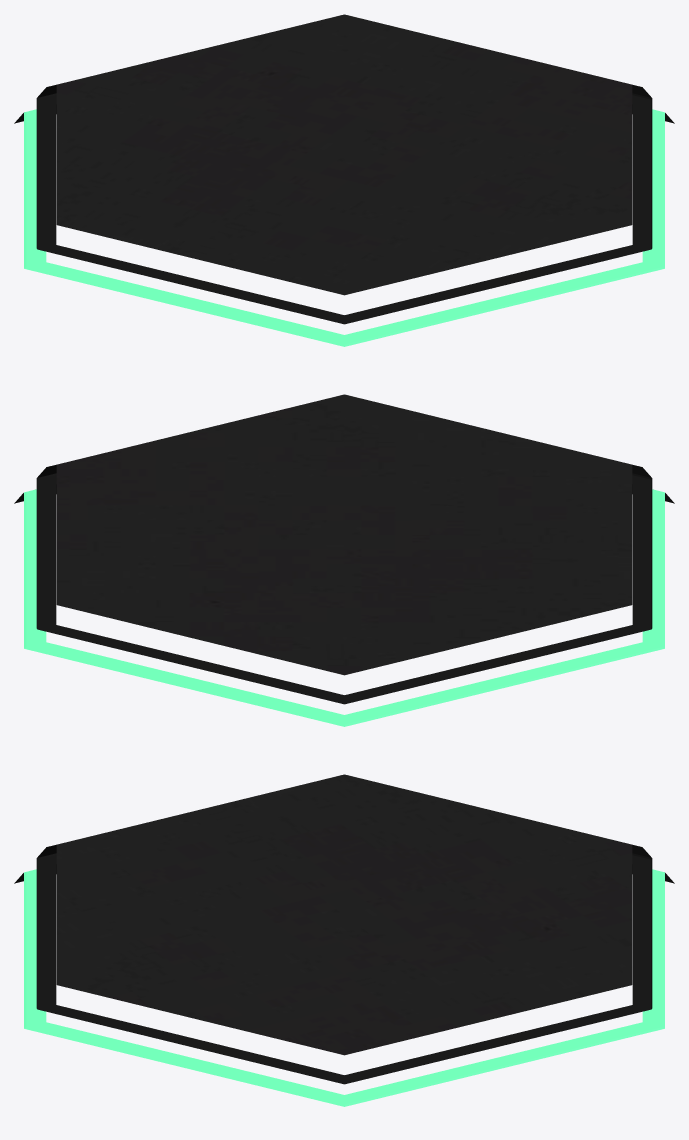
File: jb2ahex2.glb
The picture shows the model from 3 angles, top to bottom: view 1: azimuth 30°, elevation 25°; view 2: azimuth 150°, elevation 25°; view 3: azimuth 270°, elevation 25°; orthographic projection.
Parts seen in each view (by area): view 1: base; view 2: base; view 3: base.
Part boxes in pixels (x1=…): base: x1=14, y1=14, x2=674, y2=346; base: x1=14, y1=394, x2=674, y2=726; base: x1=14, y1=774, x2=674, y2=1106.
Bounding box in the file's own units: 2 × 0.1428 × 1.73.
Materials: 3 (1 with a texture image).
